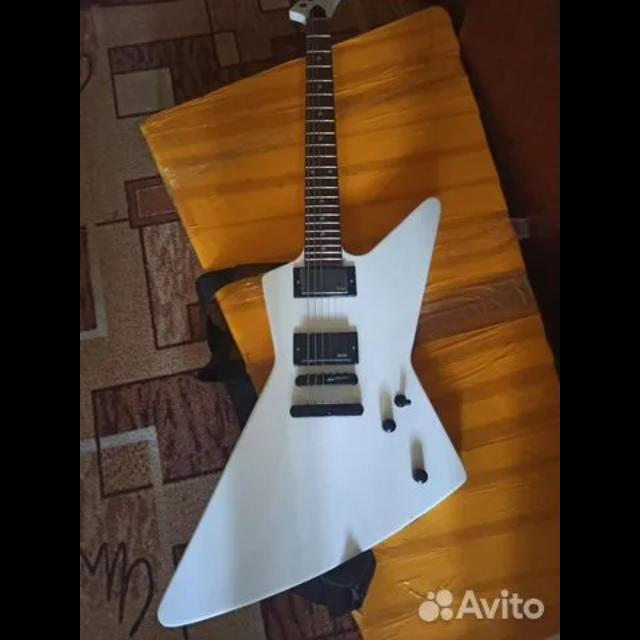Electric-Guitar: (158, 1, 466, 630)
